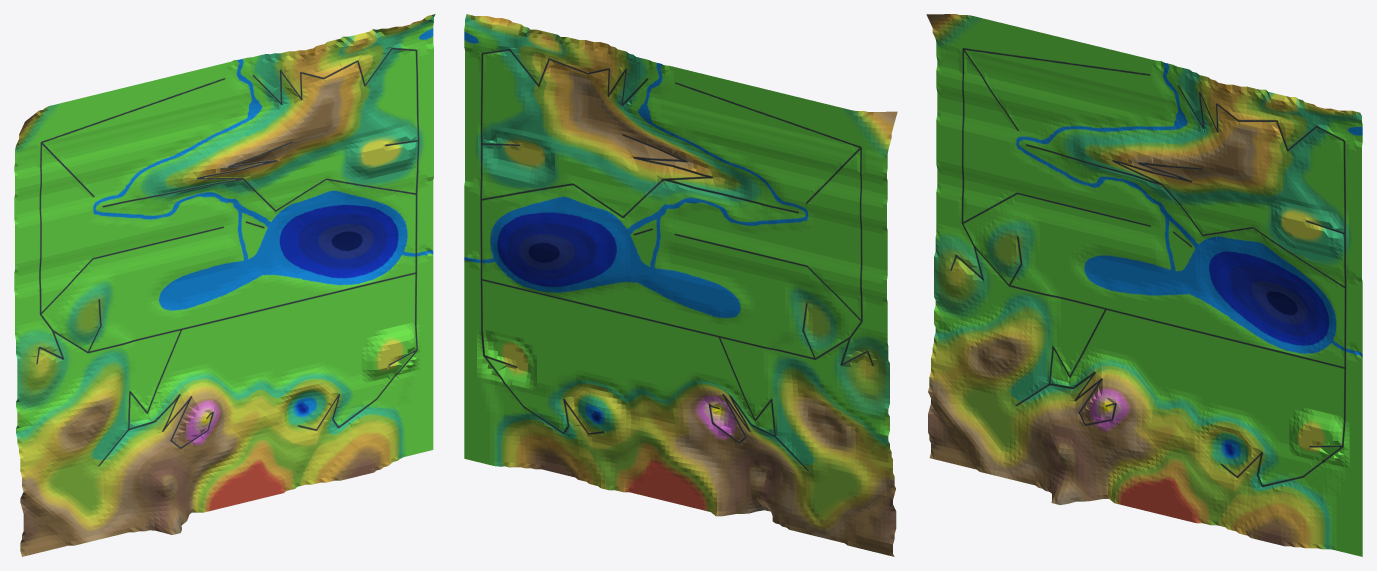
Rendered from perfect_topo.dae.
3 views of the same model, side by side, from view 1: azimuth 30°, elevation 25°; view 2: azimuth 150°, elevation 25°; view 3: azimuth 330°, elevation 25° (orthographic).
Parts seen in each view (by area): view 1: node0; view 2: node0; view 3: node0.
Part boxes in pixels (x1,y1,x2,y2): node0: (14,14,435,556); node0: (464,14,897,556); node0: (926,14,1362,556).
Bounding box in the file's own units: 792 × 792 × 85.
Materials: 1 (1 with a texture image).
